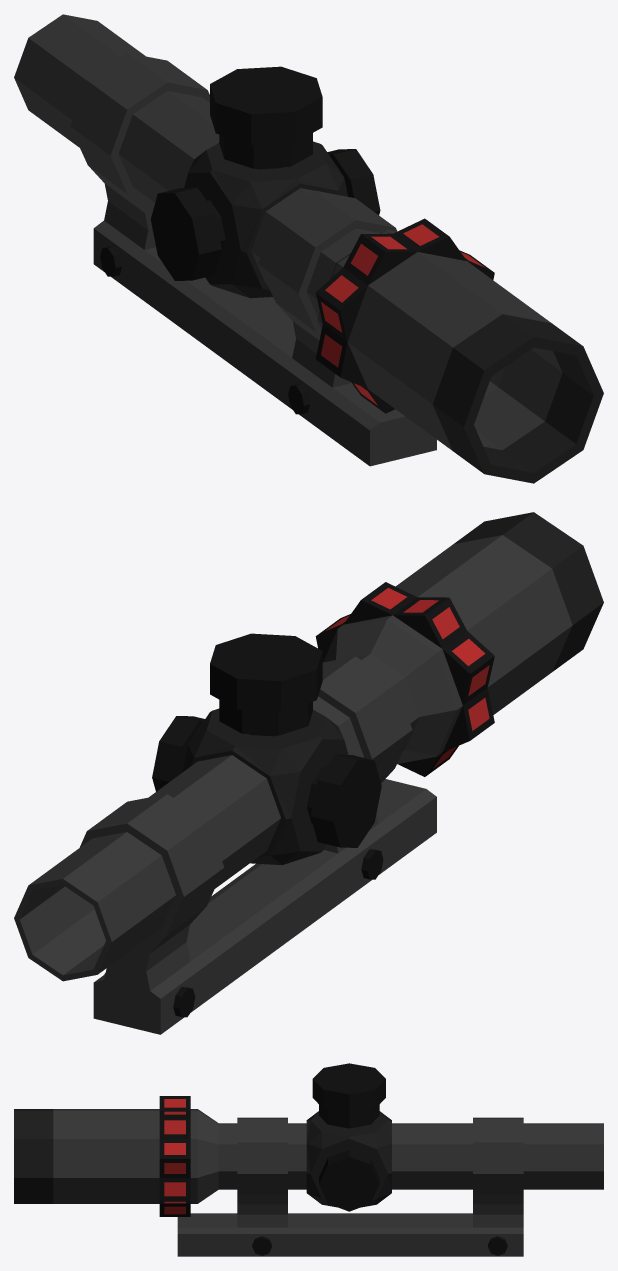
The model's file is lpvo.glb.
3 views of the same model, one above another, from view 1: azimuth 30°, elevation 25°; view 2: azimuth 150°, elevation 25°; view 3: azimuth 270°, elevation 25° (orthographic). The views are drawn at different scales.
Visible parts, largest first — view 1: Scope_East; view 2: Scope_East; view 3: Scope_East.
Part boxes in pixels (left/top/right/bottom): Scope_East: left=14, top=14, right=603, bottom=483; Scope_East: left=14, top=512, right=603, bottom=1034; Scope_East: left=14, top=1063, right=603, bottom=1256.
Bounding box in the file's own units: 0.0584 × 0.0823 × 0.2626.
